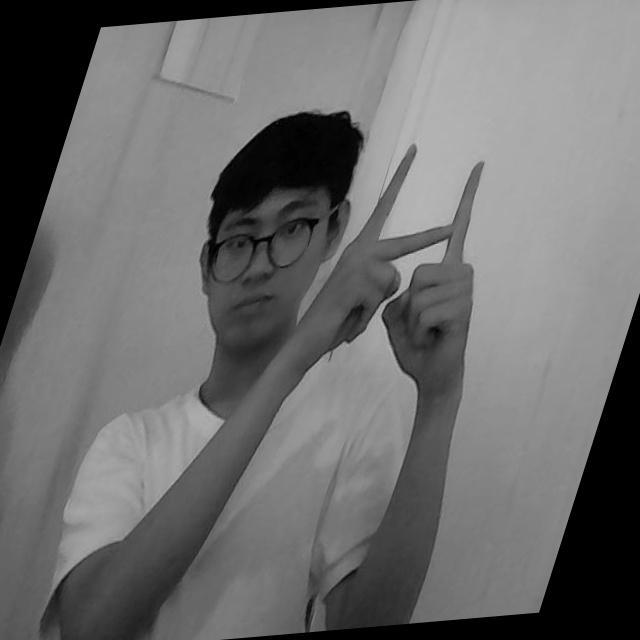H: (310, 128, 495, 366)
